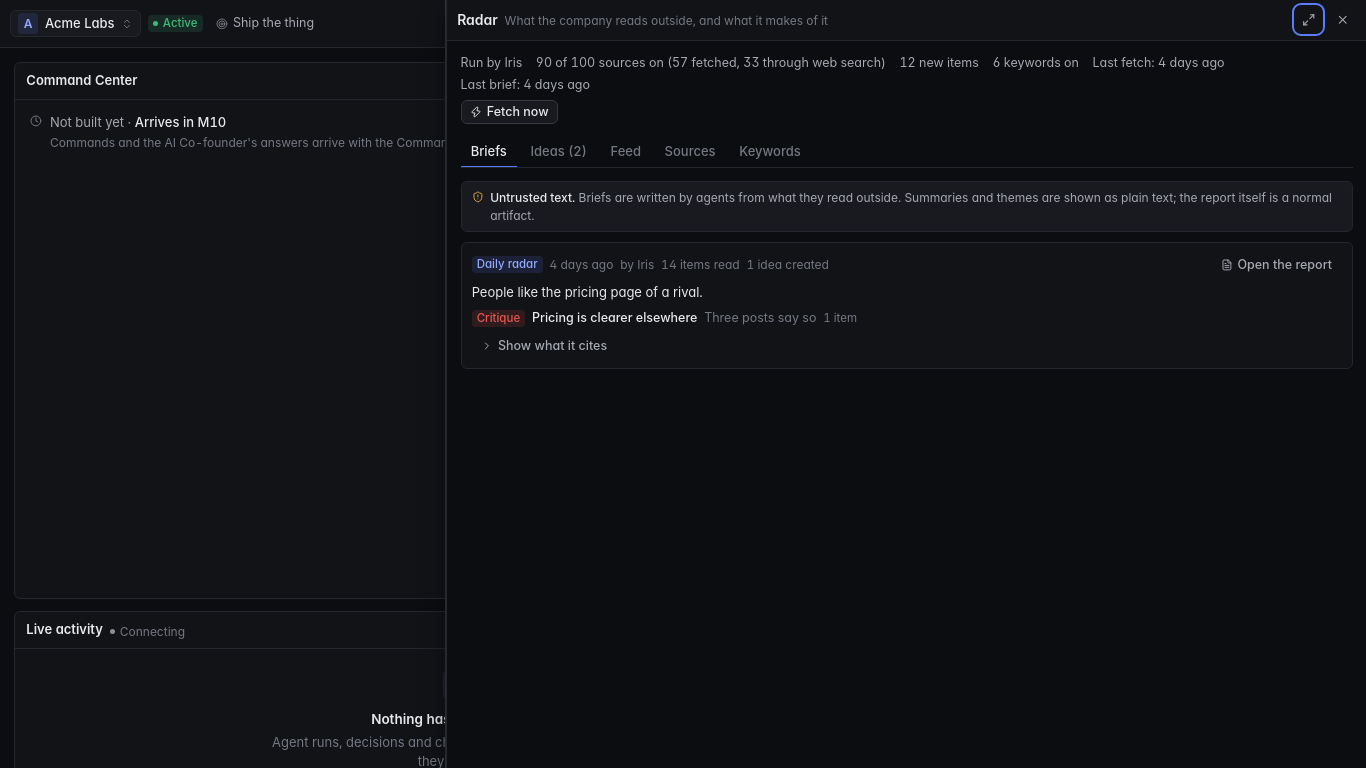
Radar panel: briefs › opens the cited items and the report
What coordinates should you click on to do the following:
click the button "Show what it cites"
I would click on:
 (544, 346)
Its box is [472,334,617,357].
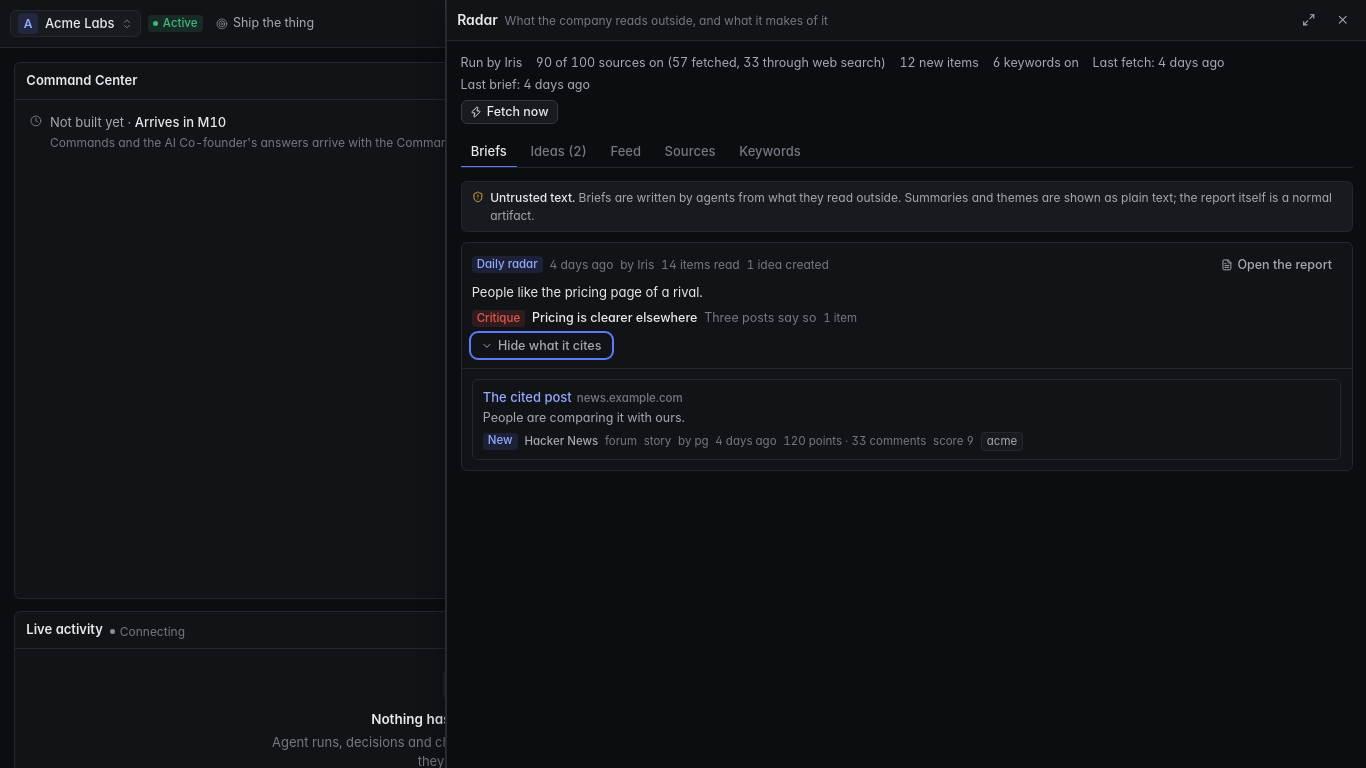
Check: the button "Open the report" is shown, box [1211,253,1341,276]
Check: the link "The cited post" is shown, box [483,389,572,405]
